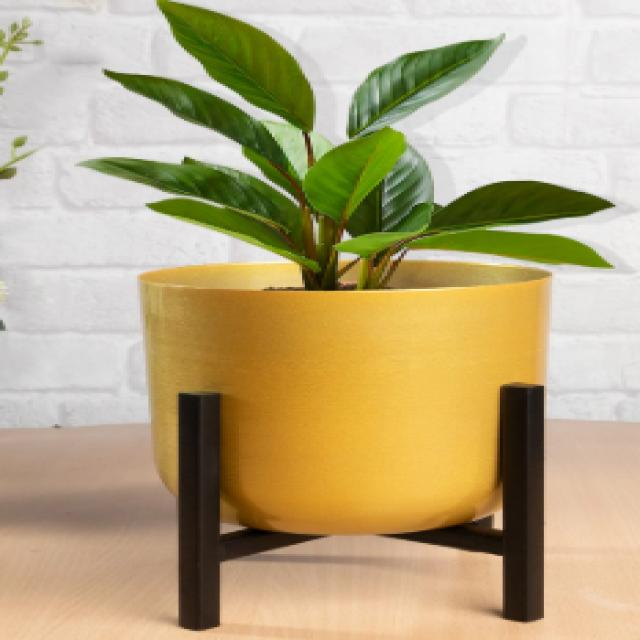Plant Pot: (124, 257, 598, 635)
